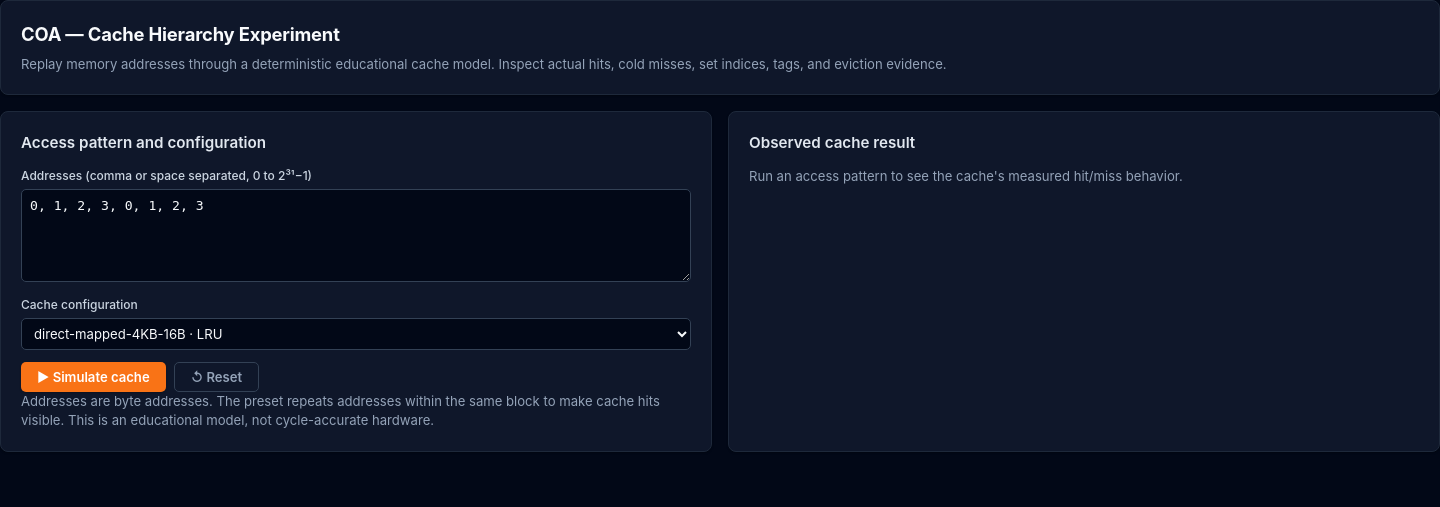
CacheLab › rejects invalid addresses and reset restores the example
Replace the text in the text box named "Cache addresses" with "-1, 2" at {"x": 356, "y": 235}, box [21,189,691,282]
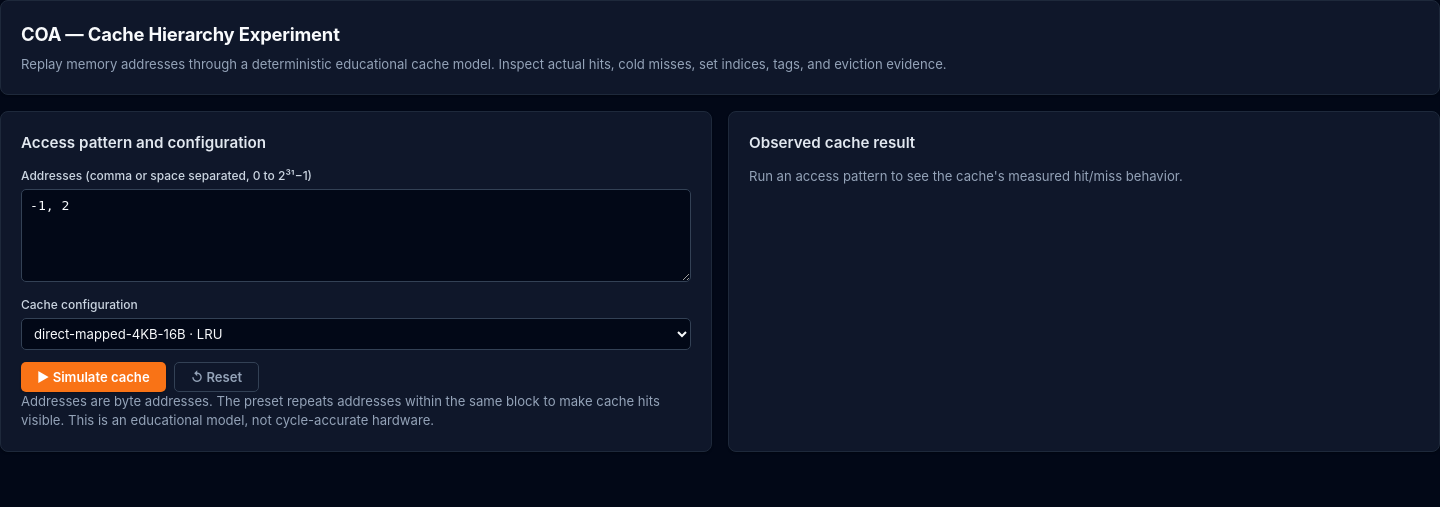
Click the button "▶ Simulate cache" at {"x": 93, "y": 377}, box [21,362,166,392]
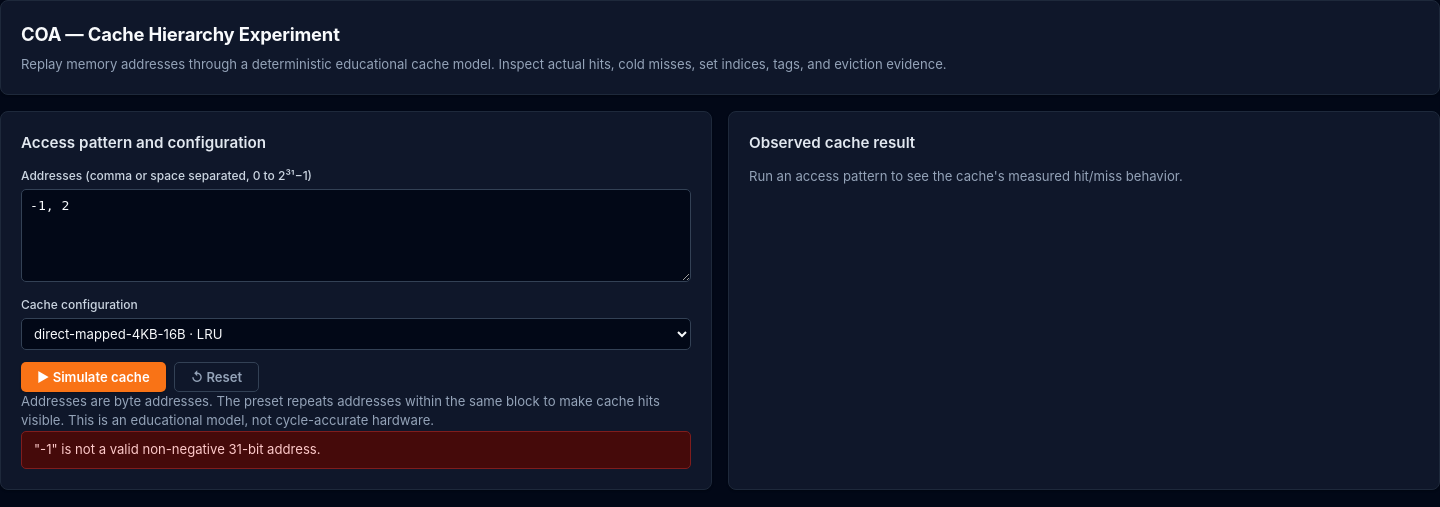
Expected: the message shows "non-negative 31-bit", [34,441,320,457]
Click the button "↺ Reset" at {"x": 216, "y": 377}, box [174,362,259,392]
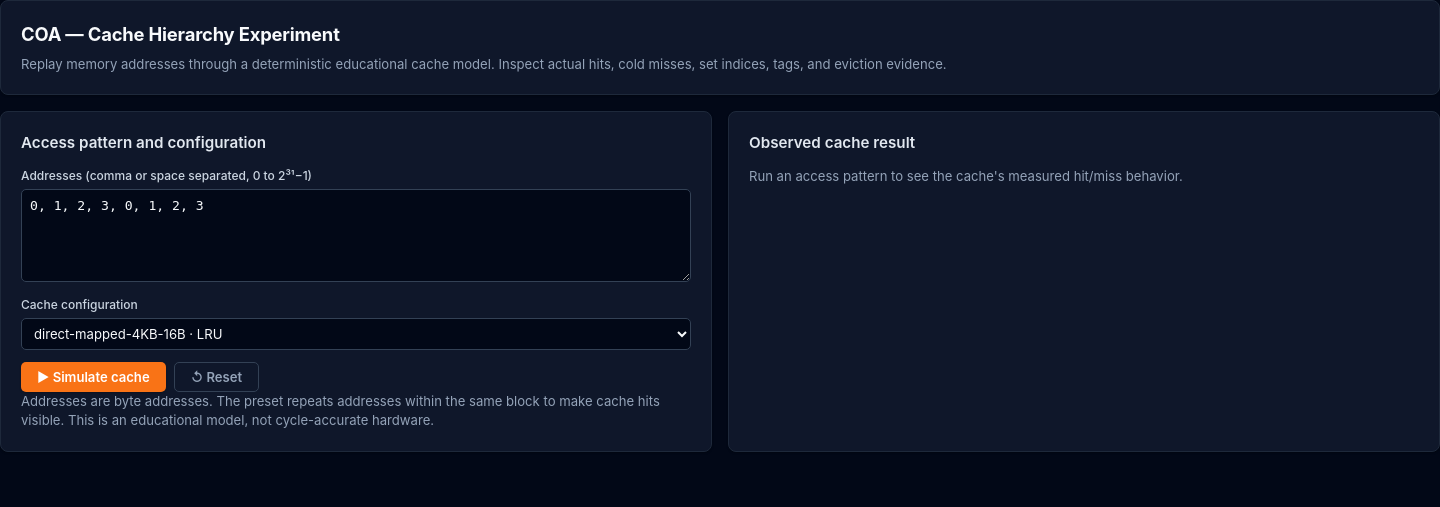
Expected: the message "\"-1\" is not a valid non-negative 31-bit address." is gone
Expected: the text box named "Cache addresses" holds "0, 1, 2, 3, 0, 1, 2, 3", [21,189,691,282]
